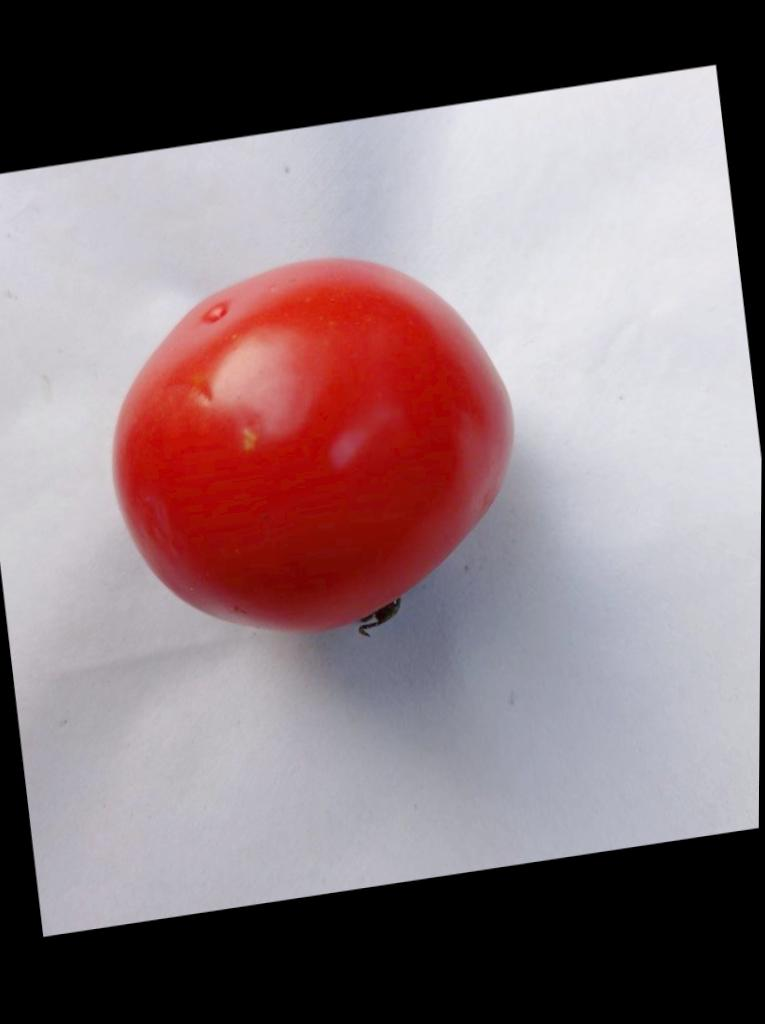tomato: (114, 259, 511, 634)
